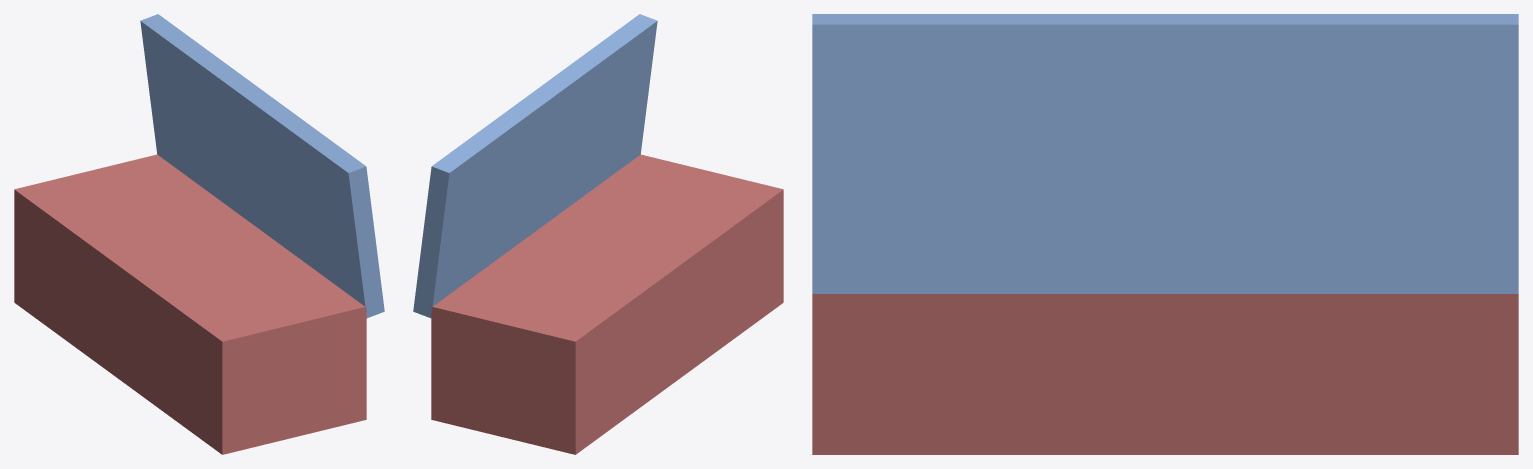
3 views of the same model, side by side, from view 1: azimuth 30°, elevation 25°; view 2: azimuth 150°, elevation 25°; view 3: azimuth 270°, elevation 25° (orthographic). The views are drawn at different scales.
Visible parts, largest first — view 1: Cube, Cube.001; view 2: Cube, Cube.001; view 3: Cube.001, Cube.
Part boxes in pixels (box(x1,y1,x2,y2)): Cube: box(14, 154, 366, 454); Cube.001: box(140, 14, 384, 318); Cube: box(431, 154, 783, 454); Cube.001: box(413, 14, 657, 318); Cube.001: box(812, 14, 1518, 293); Cube: box(812, 294, 1518, 454).
Size of the model in its own units: 2.25 by 3.36 by 5.
